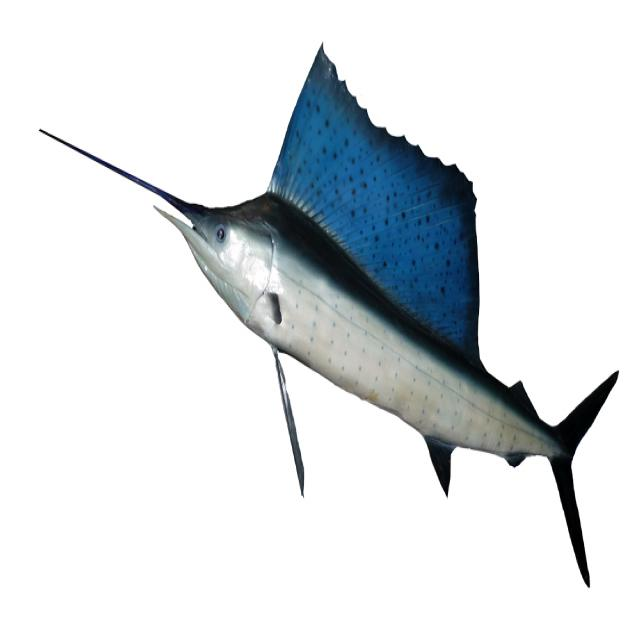Sail Fish: (38, 43, 620, 590)
